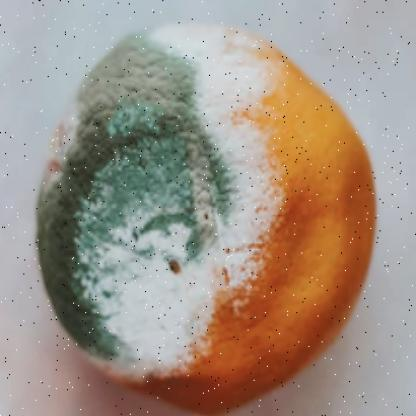rotten: (36, 18, 378, 416)
